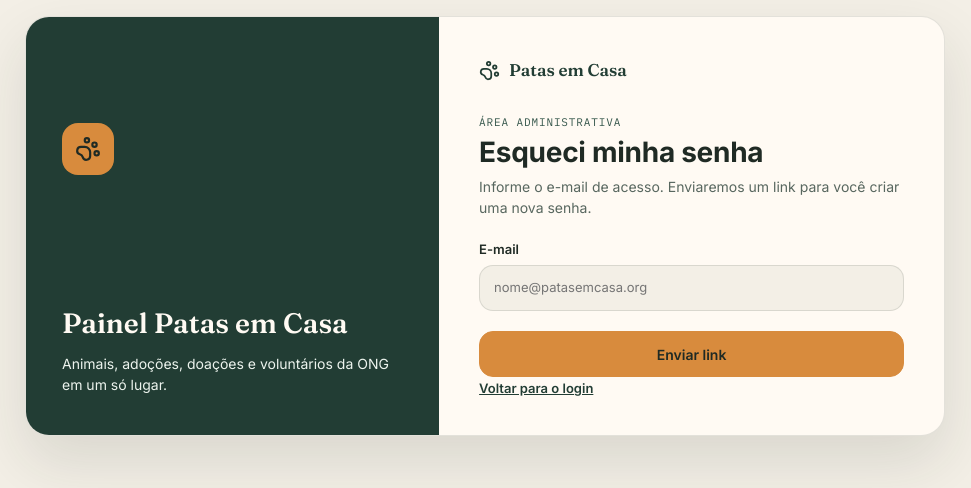
Test case: forgot password sends the e-mail and shows the neutral answer
Note: E-mail com espaços nas pontas (a tela deve removê-los com trim).
Type " carla@patasemcasa.org " into the field labelled "E-mail" at coordinates (692, 288), box x1=479 y1=265 x2=904 y2=311
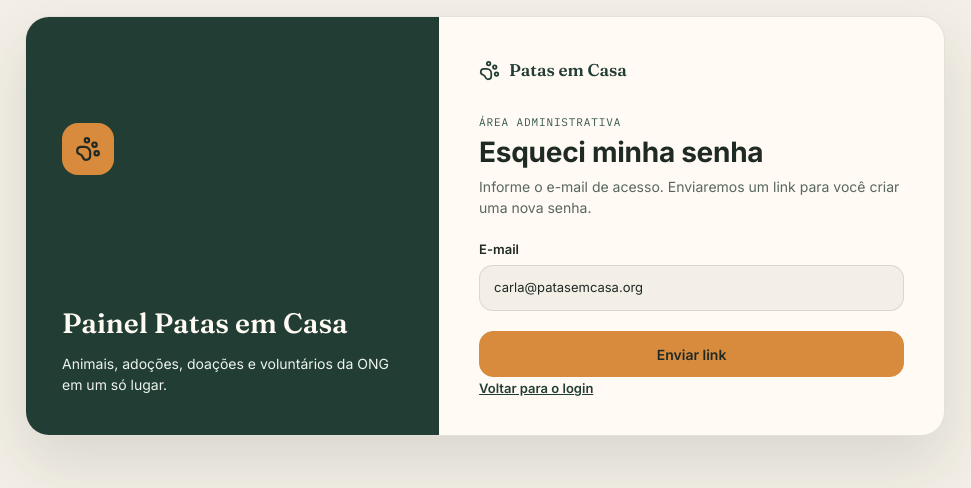
Click the button "Enviar link" at coordinates (692, 354), box x1=479 y1=331 x2=904 y2=377
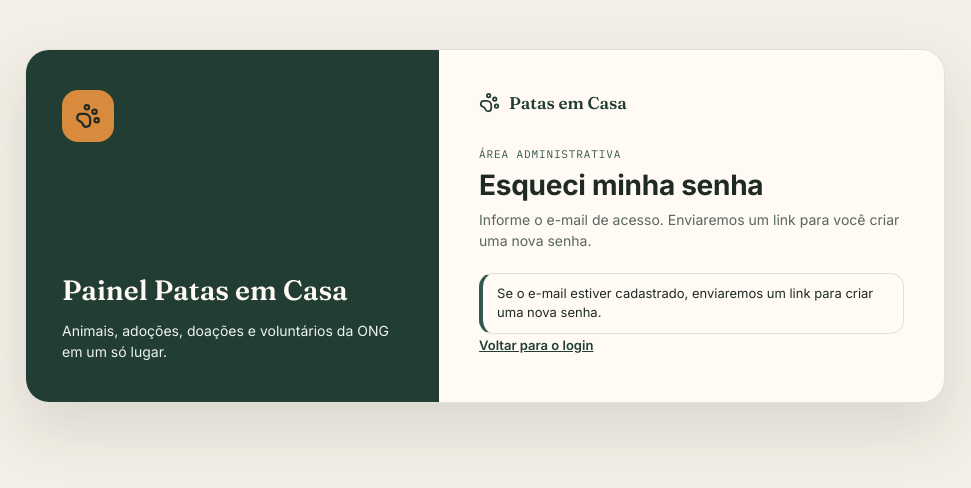
Expected: the text "Se o e-mail estiver cadastrado, enviaremos um link para criar uma nova senha." is shown, x1=479 y1=272 x2=904 y2=334
